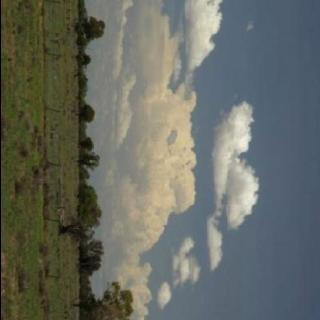Cumulus: (87, 0, 320, 320)
